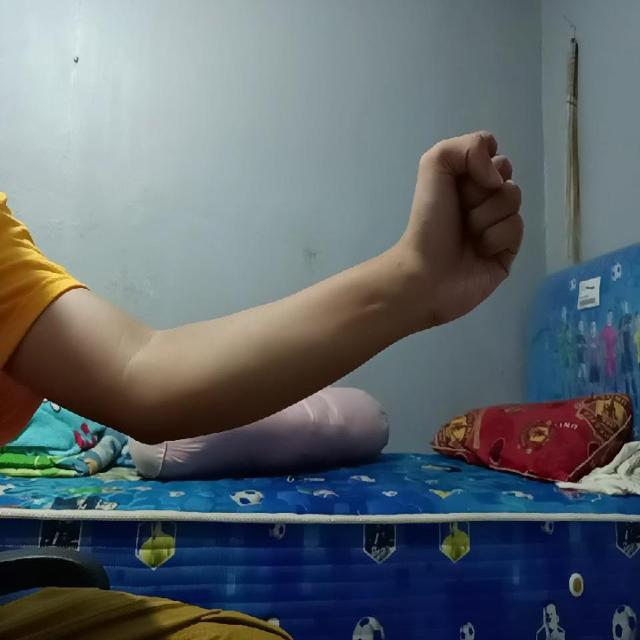fist: (400, 118, 528, 348)
